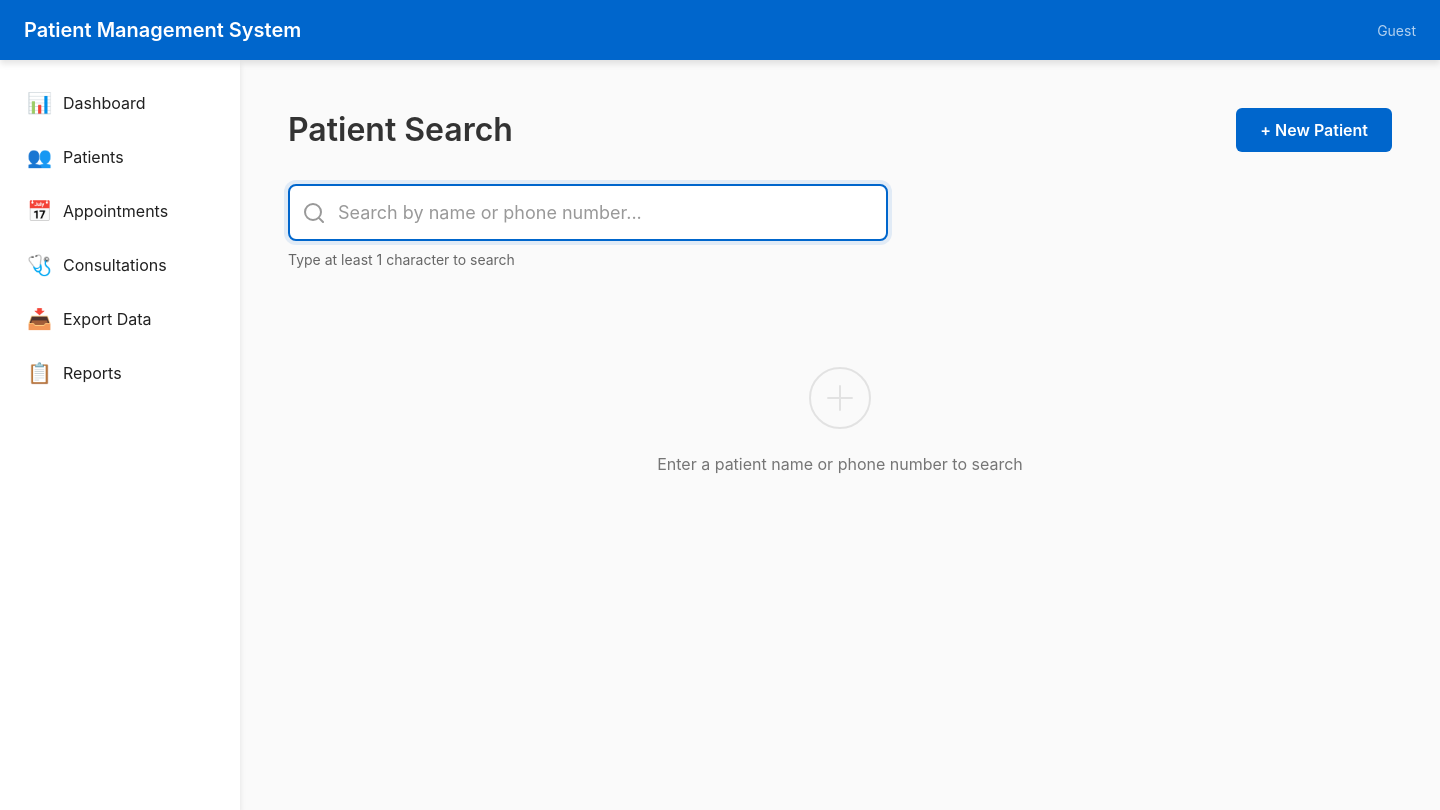
Test: PatientSearchPage › should display search results
In the field with placeholder "Search by name or phone number...": point(588, 212) [288,184,888,241], type "John"
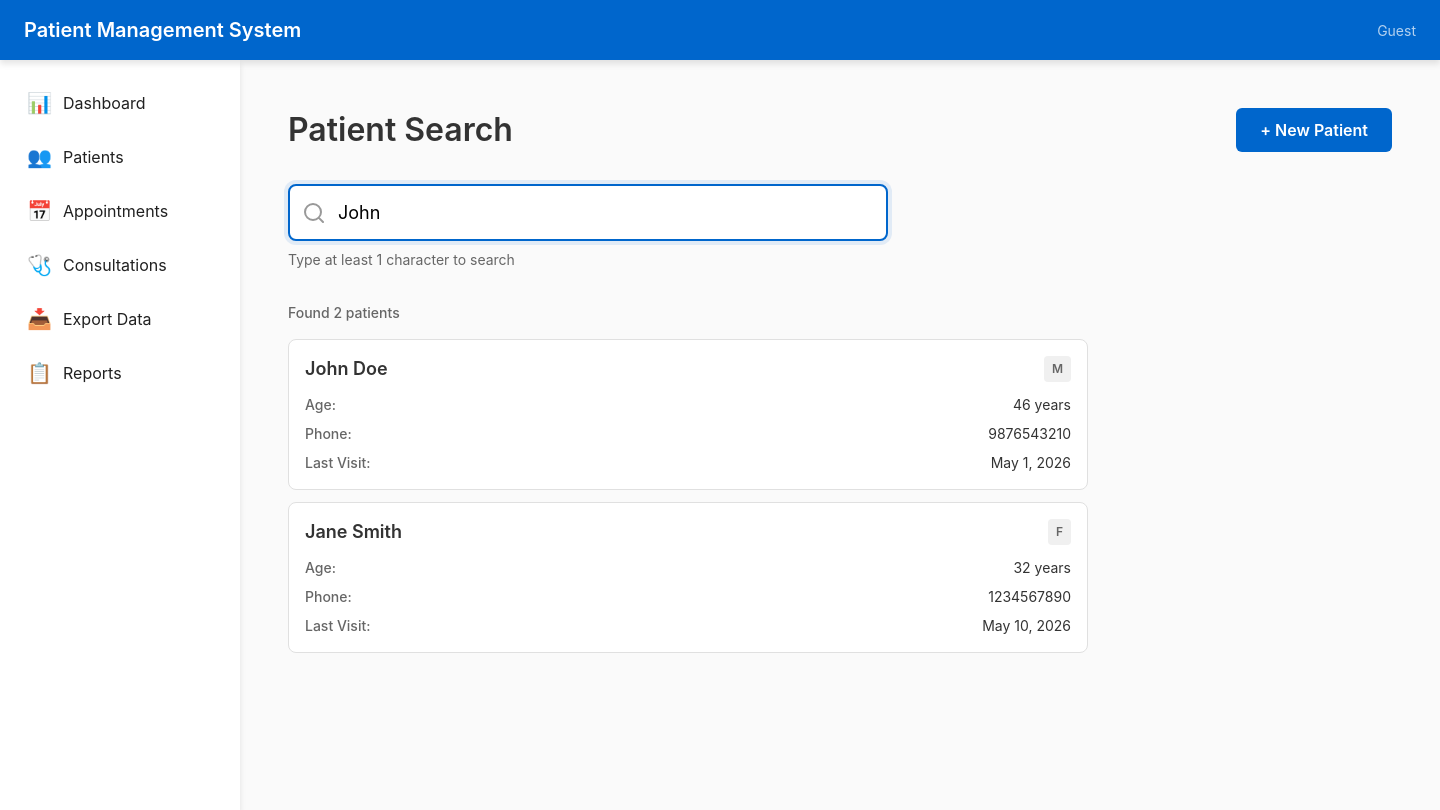
Check: the heading "John Doe" is shown, box [305,358,388,380]
Check: the heading "Jane Smith" is shown, box [305,521,402,543]
